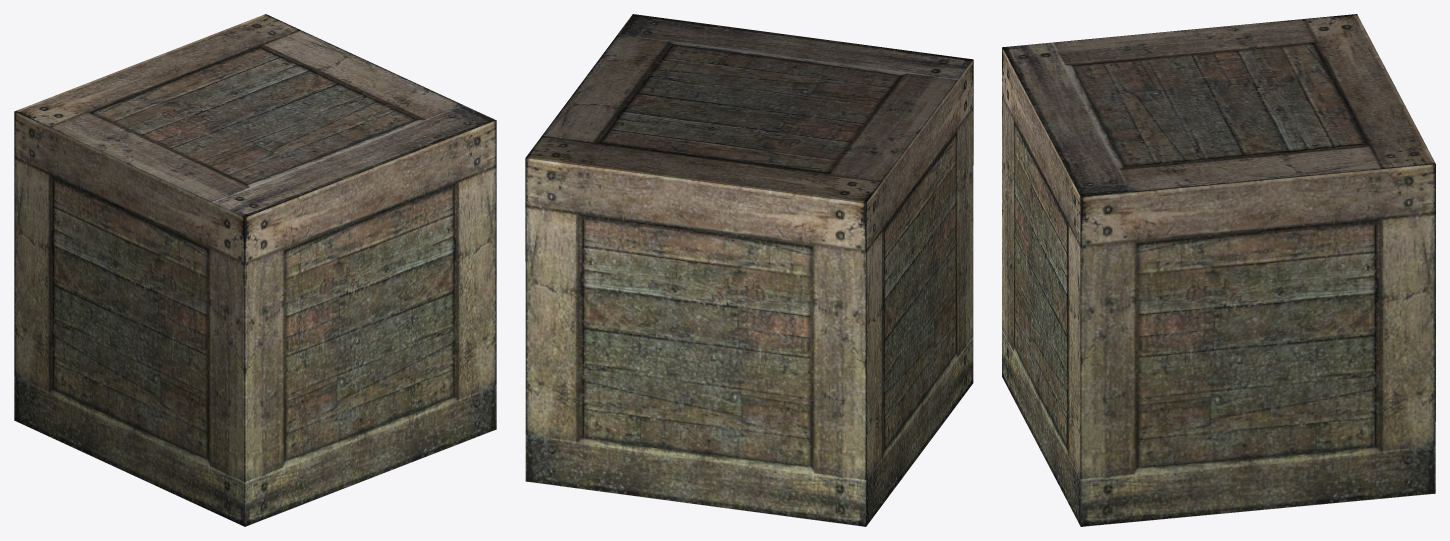
File: small_wood_box.fbx
3 renders of one model, left to right at view 1: azimuth 30°, elevation 25°; view 2: azimuth 150°, elevation 25°; view 3: azimuth 270°, elevation 25°, orthographic. The views are drawn at different scales.
Visible parts, largest first — view 1: small_wood_box.001; view 2: small_wood_box.001; view 3: small_wood_box.001.
Part boxes in pixels (x1,y1,x2,y2): small_wood_box.001: (14,14,496,526); small_wood_box.001: (525,14,973,526); small_wood_box.001: (1002,14,1435,526).
Bounding box in the file's own units: 0.9732 × 0.8159 × 0.9733.
2 materials, 2 textured.
